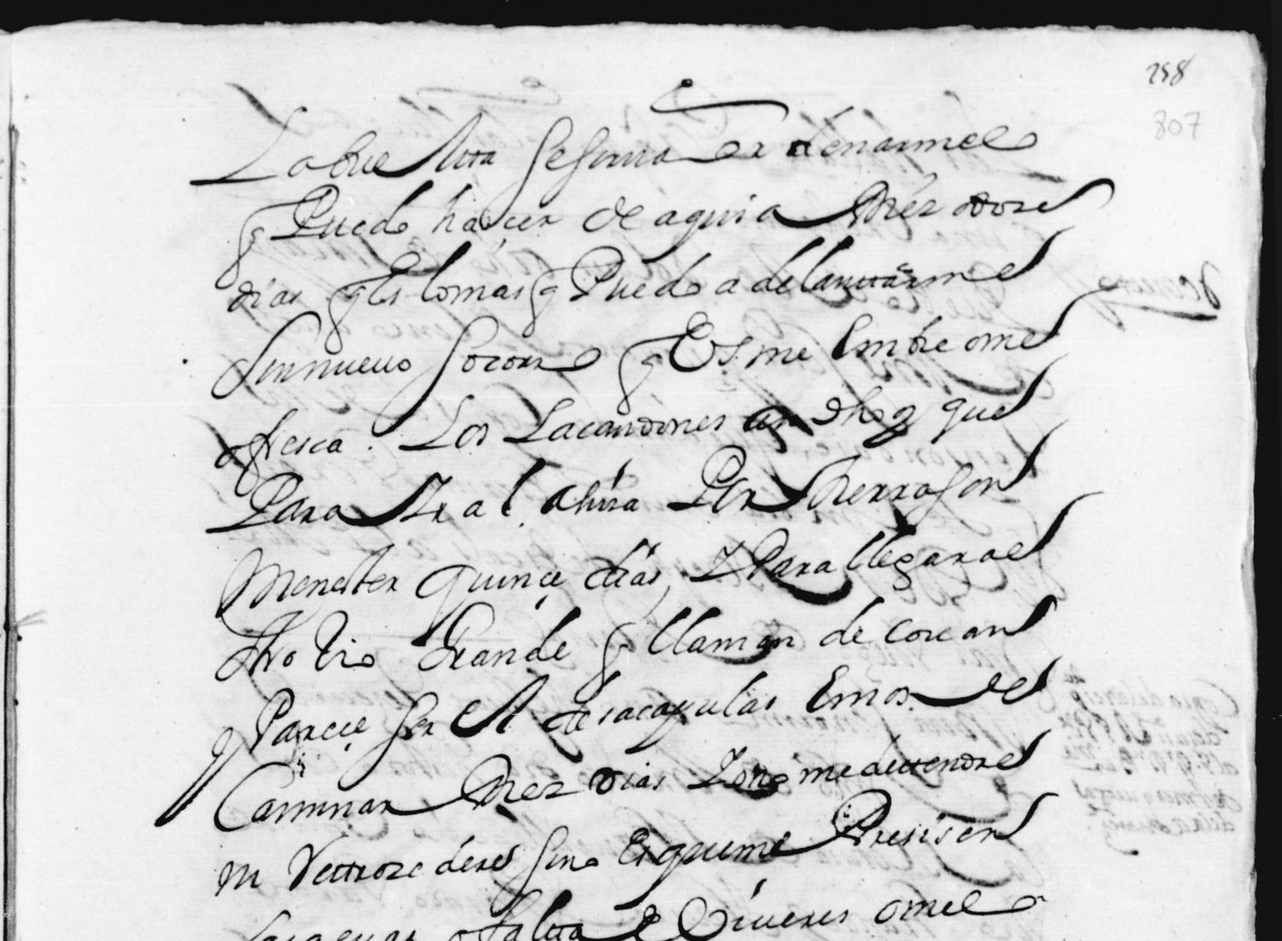lacandon: (503, 398, 725, 443)
